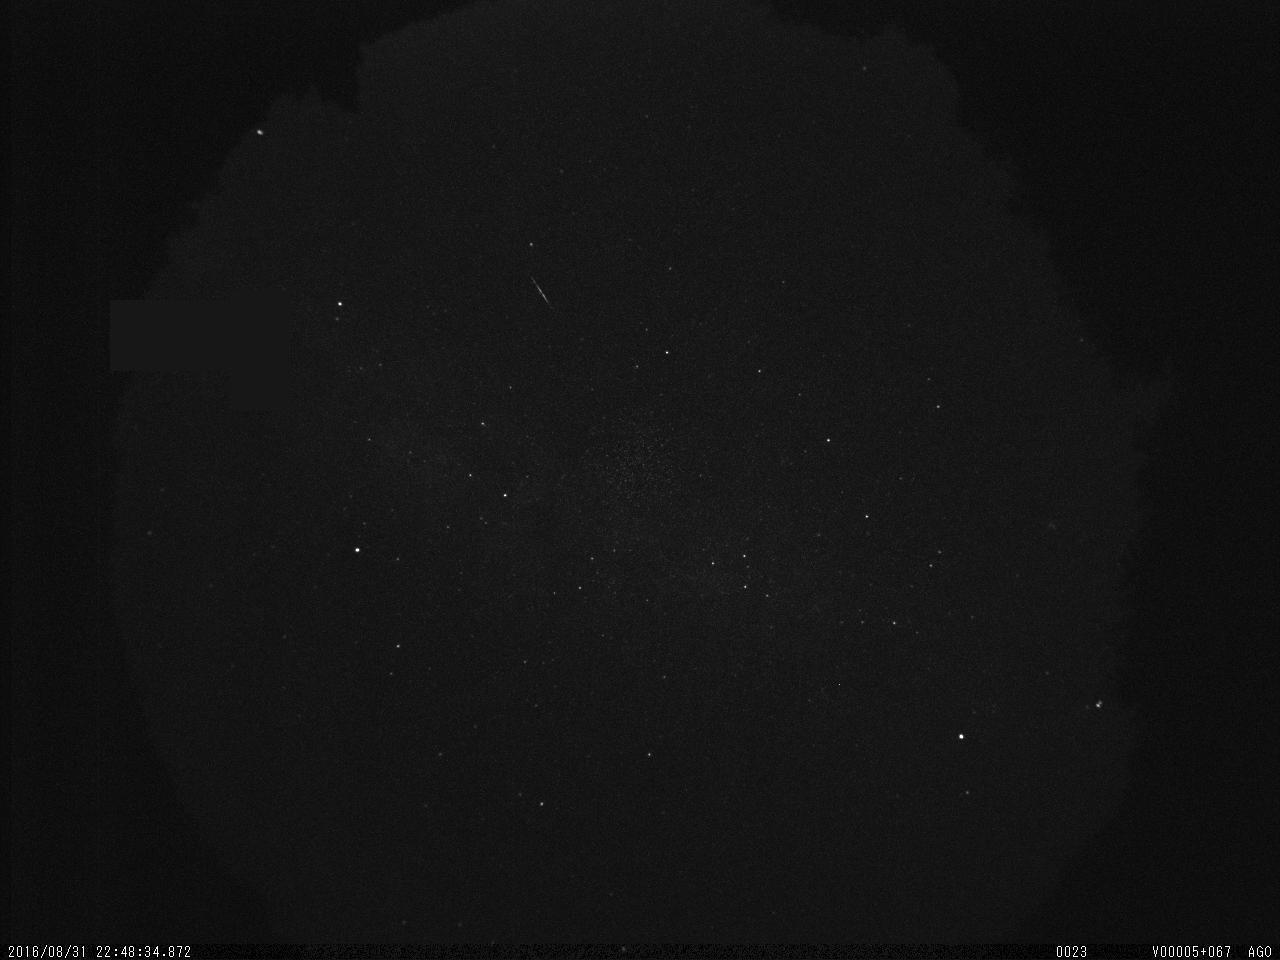meteor: (520, 271, 561, 317)
